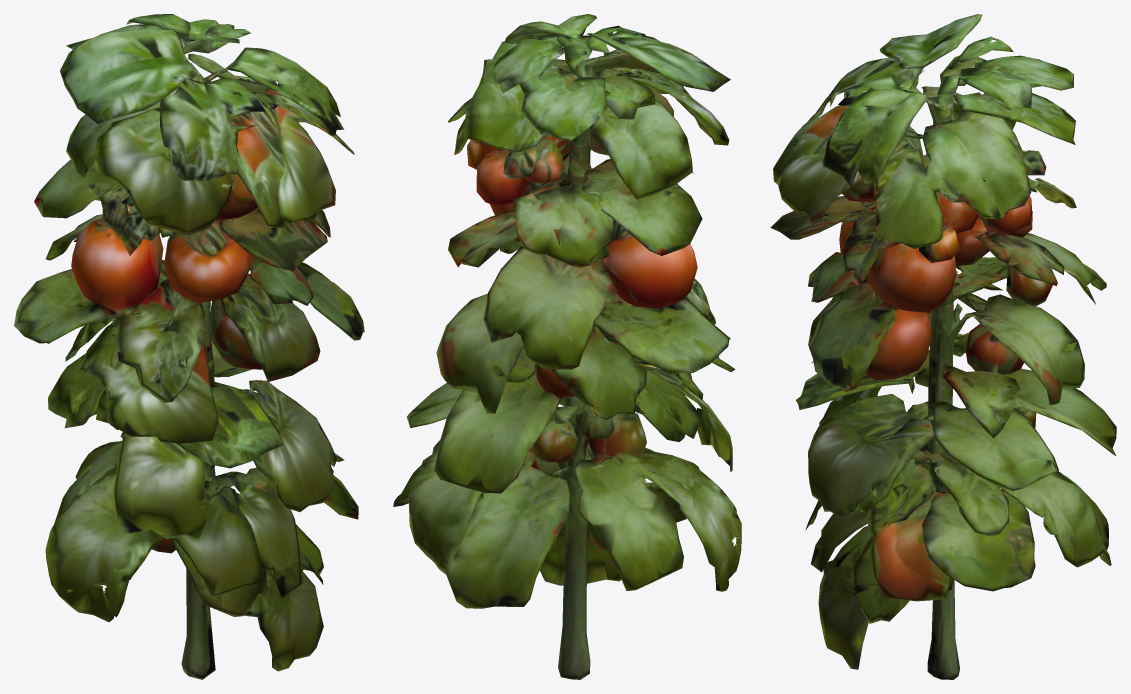
File: tomato.glb
The picture shows the model from 3 angles, left to right: view 1: azimuth 30°, elevation 25°; view 2: azimuth 150°, elevation 25°; view 3: azimuth 270°, elevation 25°; orthographic projection. The views are drawn at different scales.
Size of the model in its own units: 1 by 2.02 by 1.02.
Materials: 1 (1 with a texture image).
